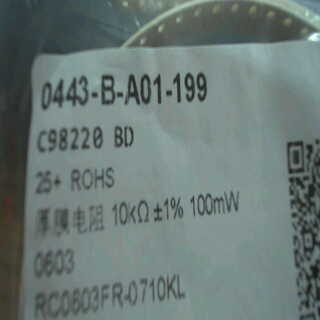10kR: (104, 193, 155, 227)
